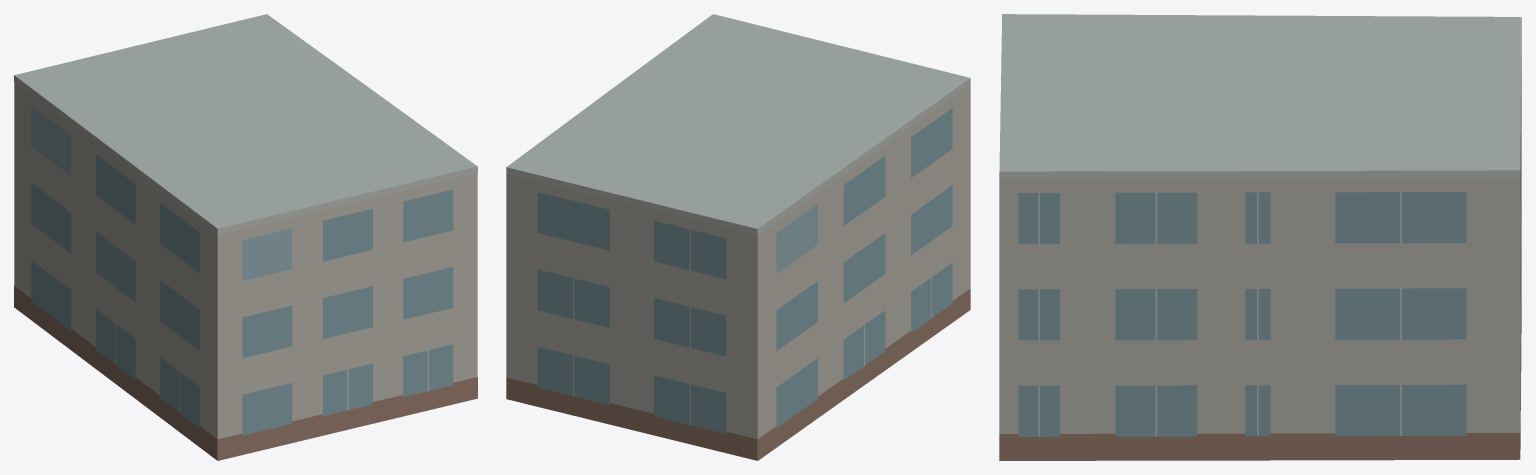
Rendered from survey-upis-32719488.glb.
3 views of the same model, side by side, from view 1: azimuth 30°, elevation 25°; view 2: azimuth 150°, elevation 25°; view 3: azimuth 270°, elevation 25° (orthographic). The views are drawn at different scales.
Parts seen in each view (by area): view 1: survey-upis-32719488.tmp; view 2: survey-upis-32719488.tmp; view 3: survey-upis-32719488.tmp.
Boxes of the visible parts, x1,y1,x2,y2 form: survey-upis-32719488.tmp: [14, 14, 477, 460]; survey-upis-32719488.tmp: [506, 14, 970, 460]; survey-upis-32719488.tmp: [999, 14, 1521, 460].
Size of the model in its own units: 9.82 by 8.4 by 13.75.
